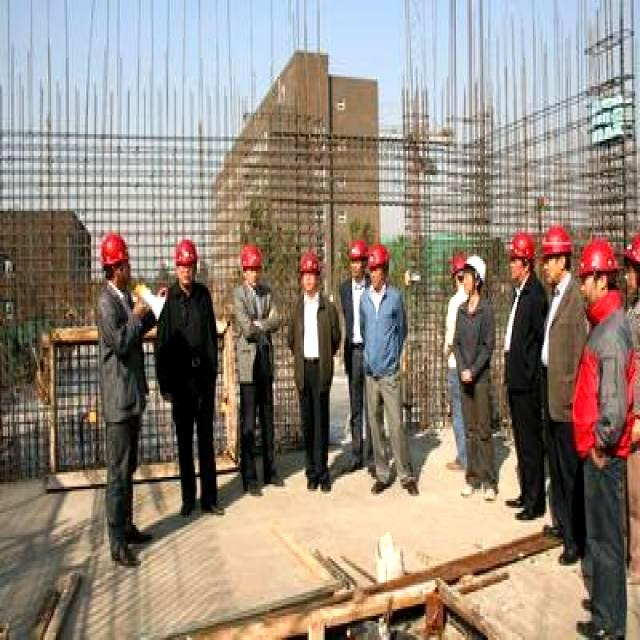hard_hat: (578, 237, 618, 276), (541, 225, 571, 256), (101, 233, 128, 266), (174, 237, 197, 266), (510, 233, 534, 259), (240, 244, 262, 271), (299, 249, 320, 273), (368, 244, 389, 268), (467, 254, 485, 280), (347, 240, 366, 259)
person: (571, 242, 630, 638), (98, 233, 154, 563), (155, 240, 221, 513), (362, 244, 416, 491), (288, 252, 339, 489), (504, 233, 546, 518), (541, 225, 576, 563), (232, 244, 278, 491), (453, 256, 498, 499), (339, 240, 366, 467)
